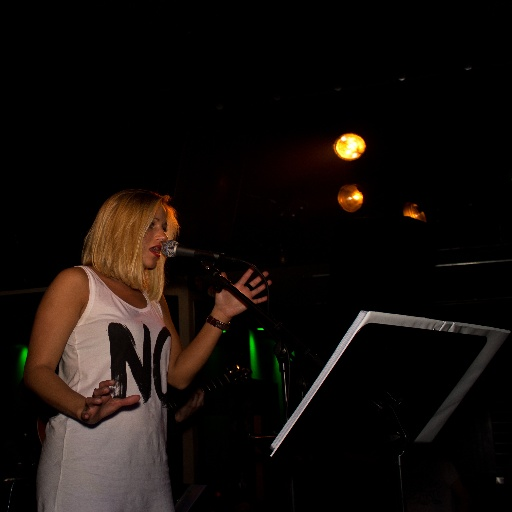hand: (214, 264, 275, 315), (67, 384, 144, 418), (179, 389, 205, 420)
